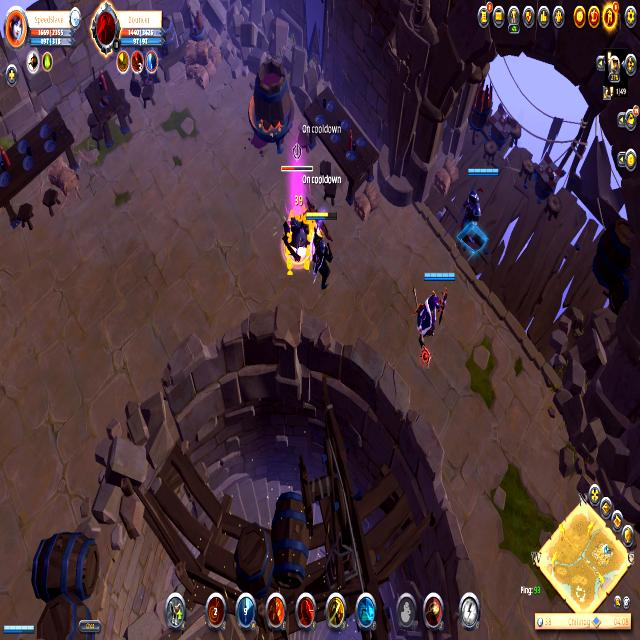ore: (275, 137, 322, 280)
red: (454, 160, 502, 251), (303, 208, 337, 292), (419, 267, 458, 338), (1, 620, 36, 639)
